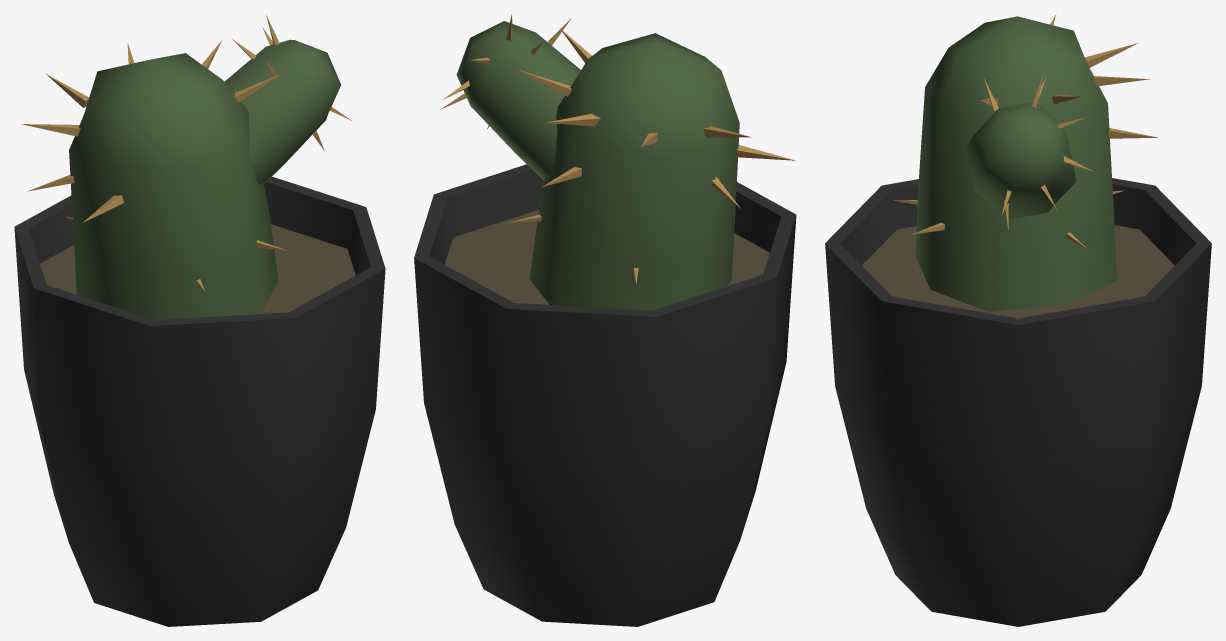
Rendered from Houseplant_2.glb.
3 views of the same model, side by side, from view 1: azimuth 30°, elevation 25°; view 2: azimuth 150°, elevation 25°; view 3: azimuth 270°, elevation 25° (orthographic). The views are drawn at different scales.
Visible parts, largest first — view 1: Houseplant_2; view 2: Houseplant_2; view 3: Houseplant_2.
Boxes of the visible parts, x1=… form: Houseplant_2: x1=14, y1=15, x2=385, y2=626; Houseplant_2: x1=414, y1=14, x2=796, y2=626; Houseplant_2: x1=825, y1=14, x2=1211, y2=626.
Size of the model in its own units: 0.1225 by 0.1882 by 0.1225.
Materials: 4 (4 with a texture image).
